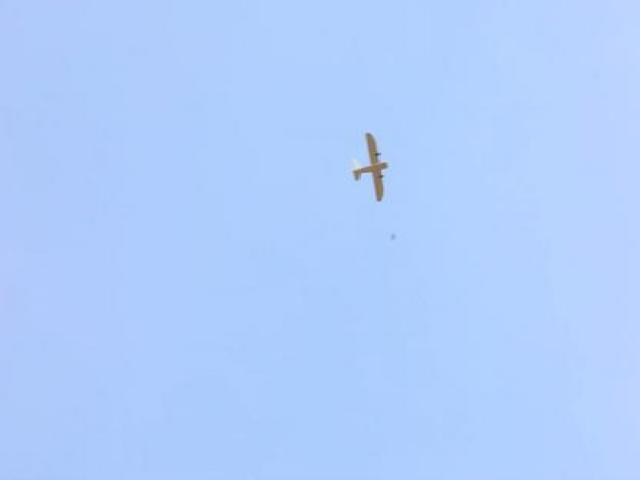uav: (350, 130, 387, 203)
